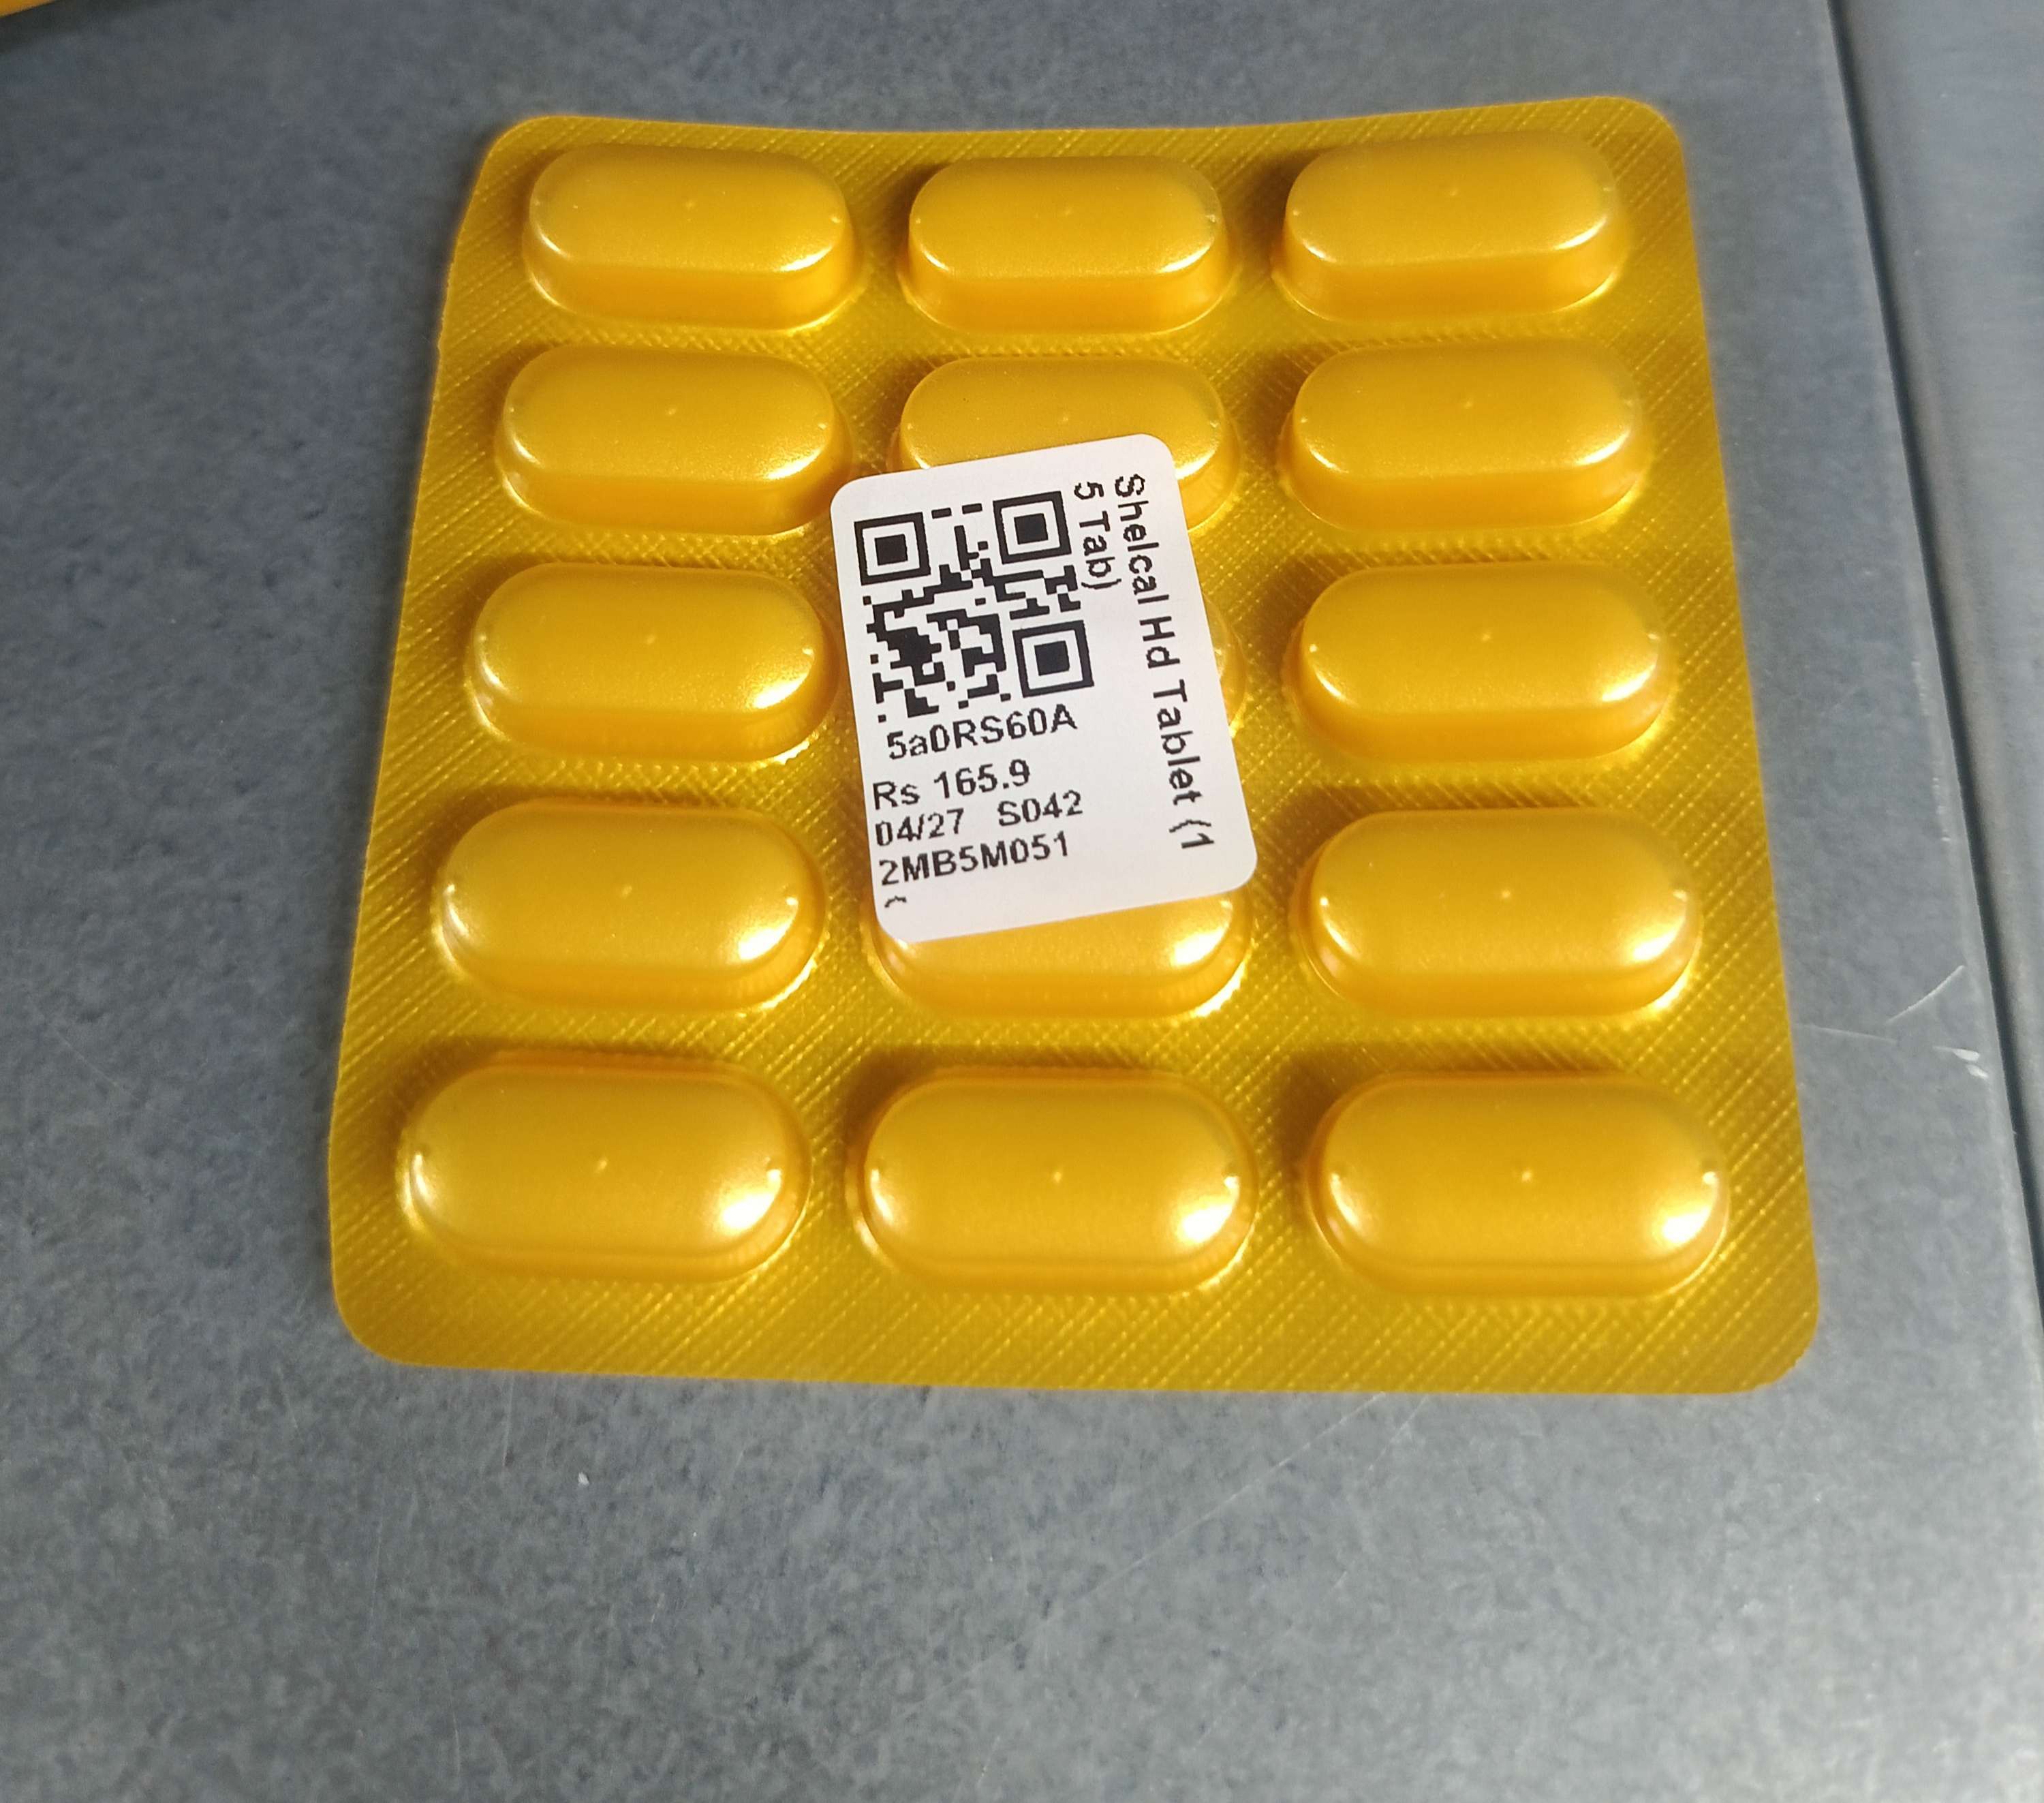QR: (852, 372, 1094, 606)
